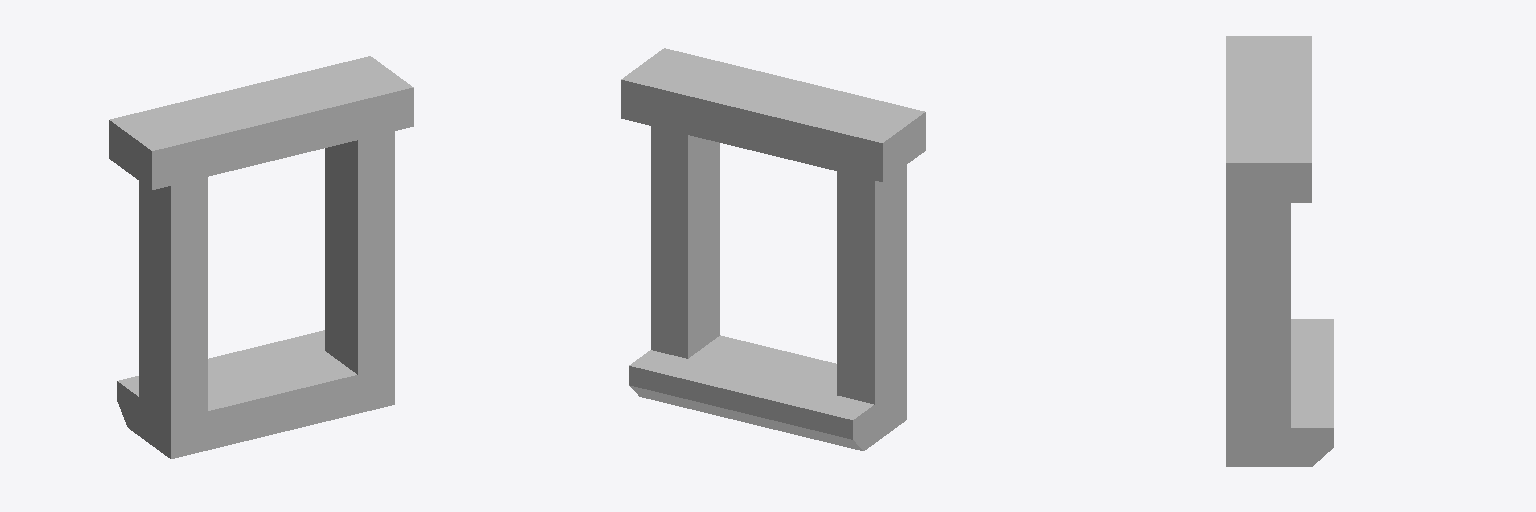
The model's file is window.obj.
The picture shows the model from 3 angles: view 1: azimuth 30°, elevation 25°; view 2: azimuth 150°, elevation 25°; view 3: azimuth 270°, elevation 25°; orthographic projection.
Parts seen in each view (by area): view 1: window; view 2: window; view 3: window.
Boxes of the visible parts, x1,y1,x2,y2 form: window: [109, 56, 413, 458]; window: [621, 48, 925, 450]; window: [1226, 36, 1333, 466].
Bounding box in the file's own units: 1.38 × 1.58 × 0.4946.